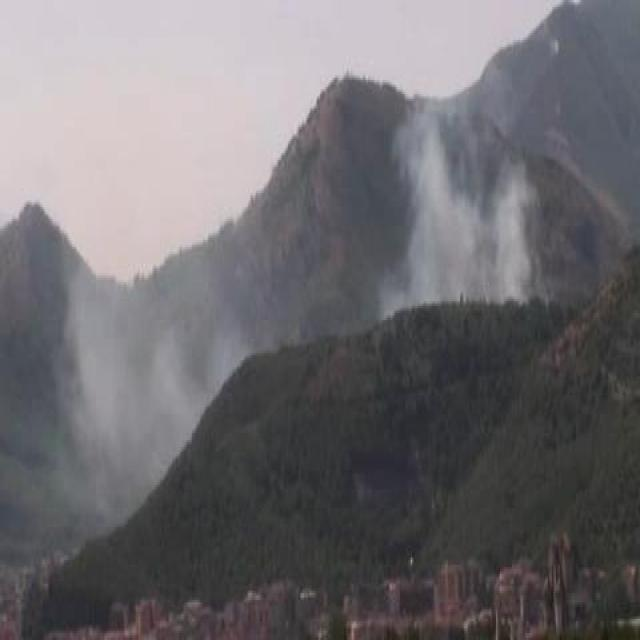Smoke: (376, 100, 528, 307), (65, 276, 203, 476)
